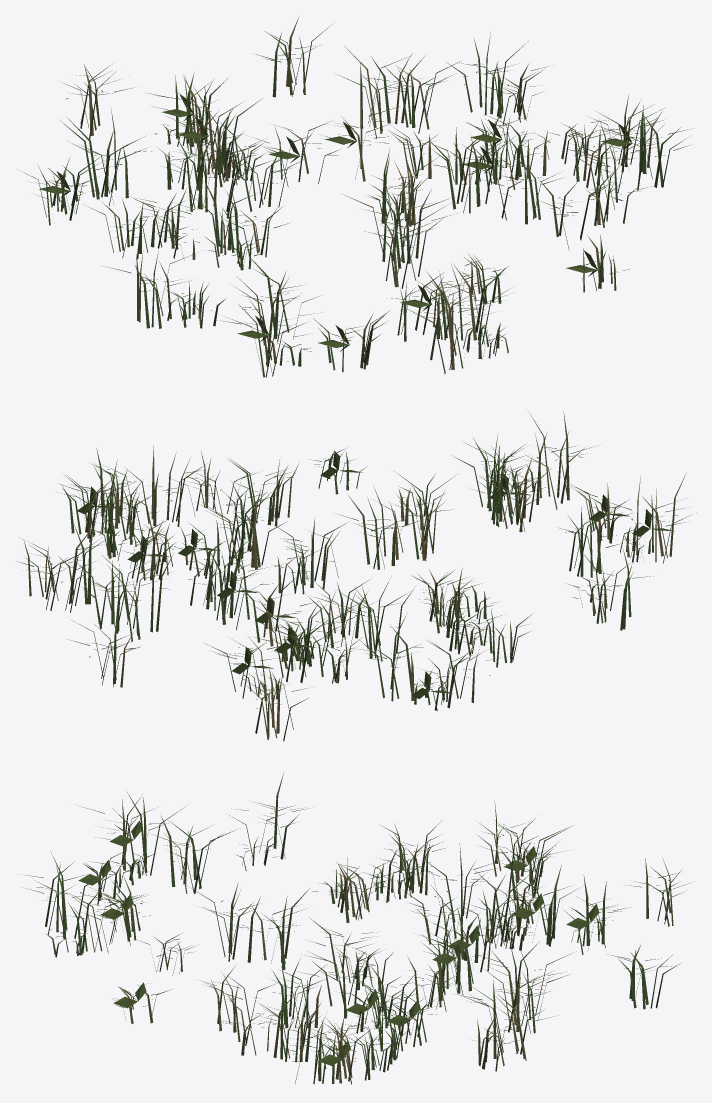
Rendered from verge_patch.glb.
The picture shows the model from 3 angles, top to bottom: view 1: azimuth 30°, elevation 25°; view 2: azimuth 150°, elevation 25°; view 3: azimuth 270°, elevation 25°; orthographic projection. The views are drawn at different scales.
Parts seen in each view (by area): view 1: verge_patch; view 2: verge_patch; view 3: verge_patch.
Part boxes in pixels (bbox=[...]): verge_patch: bbox=[23, 17, 690, 377]; verge_patch: bbox=[16, 410, 696, 741]; verge_patch: bbox=[20, 772, 689, 1084].
Size of the model in its own units: 3.64 by 0.4423 by 3.91.
